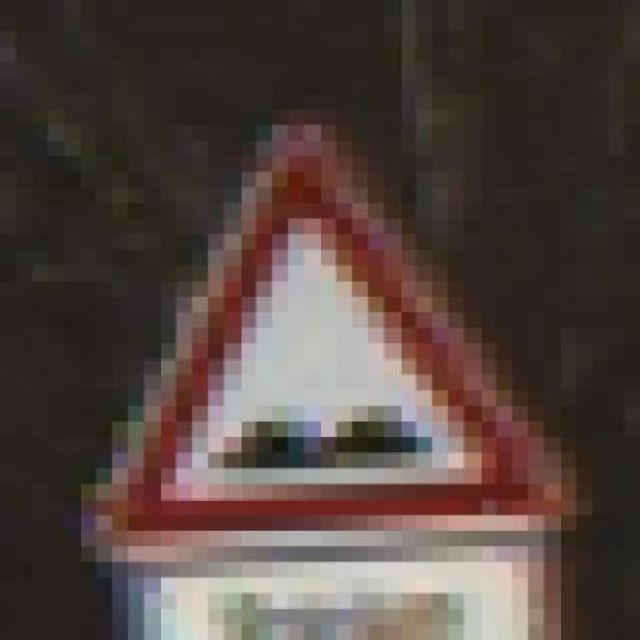Uneven Road: (64, 94, 608, 546)
